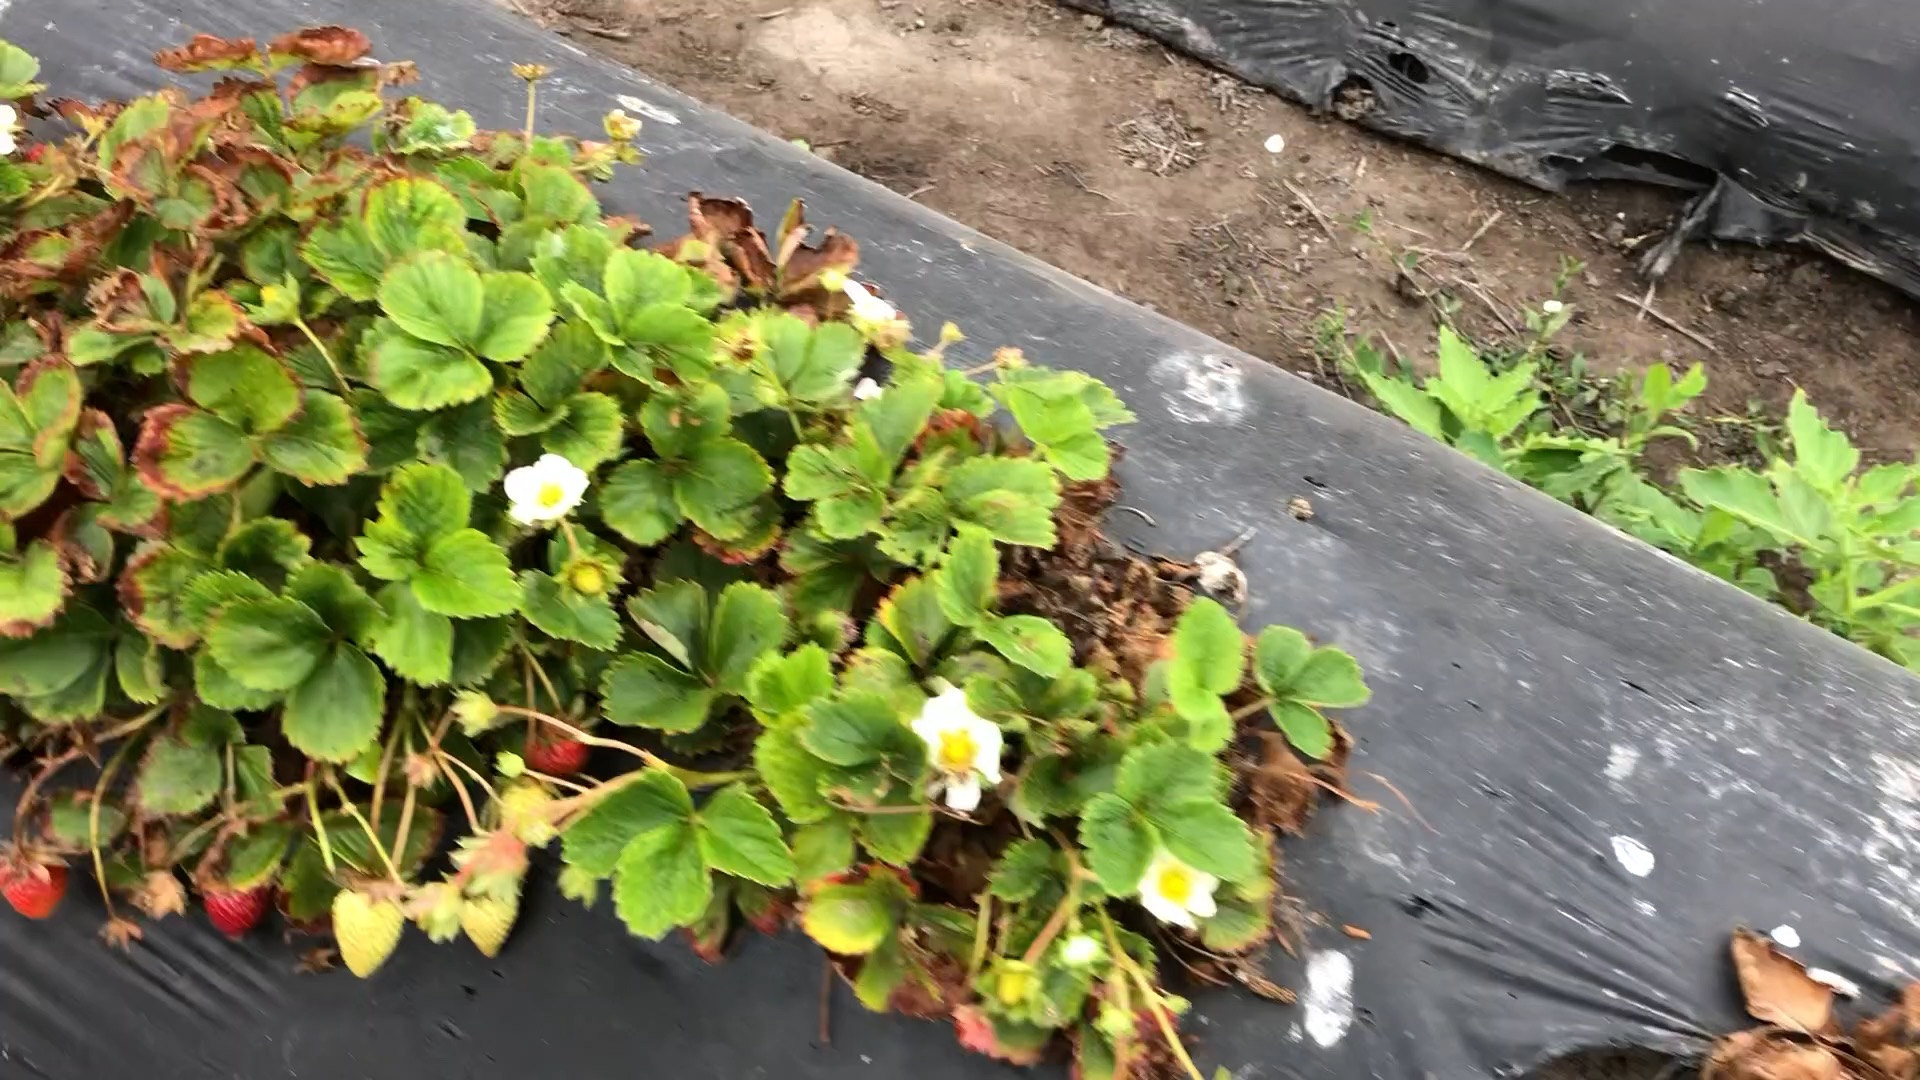ripe_strawberry: (1, 847, 73, 923), (527, 709, 593, 781), (203, 884, 272, 942)
unripe_strawberry: (328, 876, 407, 982), (458, 876, 517, 959), (498, 774, 559, 851), (568, 556, 612, 601)
